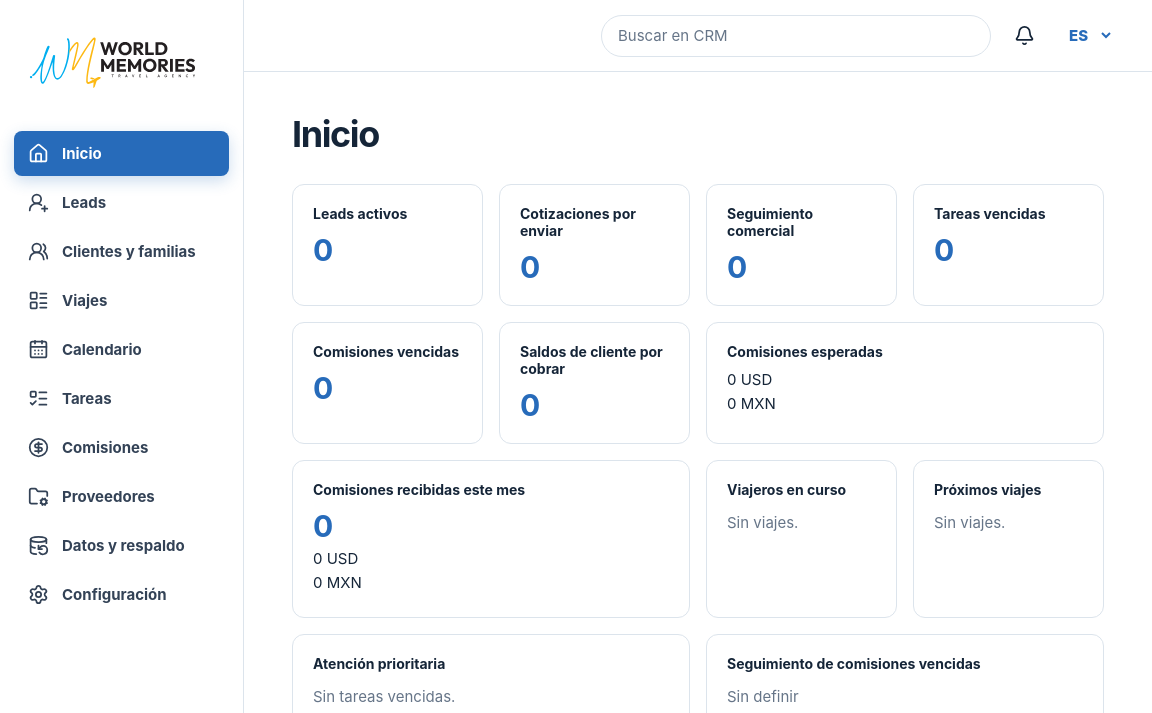
it: application shell › opens a Client in the focused workspace while preserving primary navigation
This screenshot has width=1152, height=713.
Click the button "Clientes y familias" at (122, 252), box [14,229,229,274]
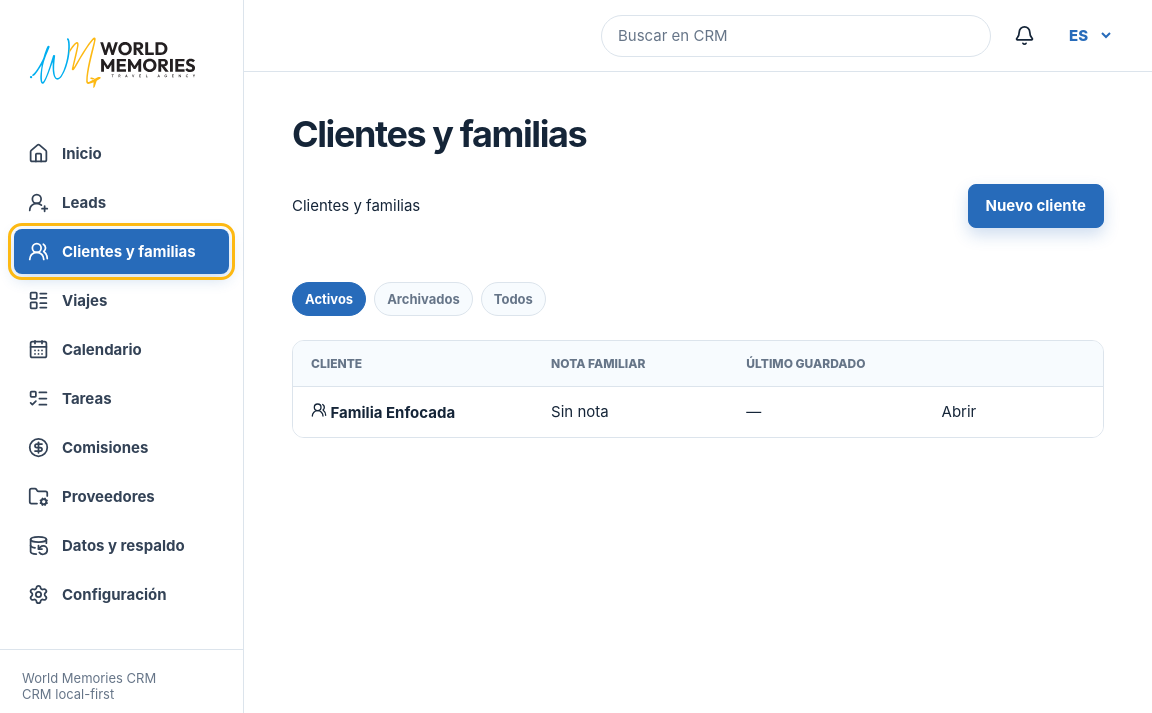
Click the button "Familia Enfocada Sin nota — Abrir" at (393, 412), box [293,386,1103,437]
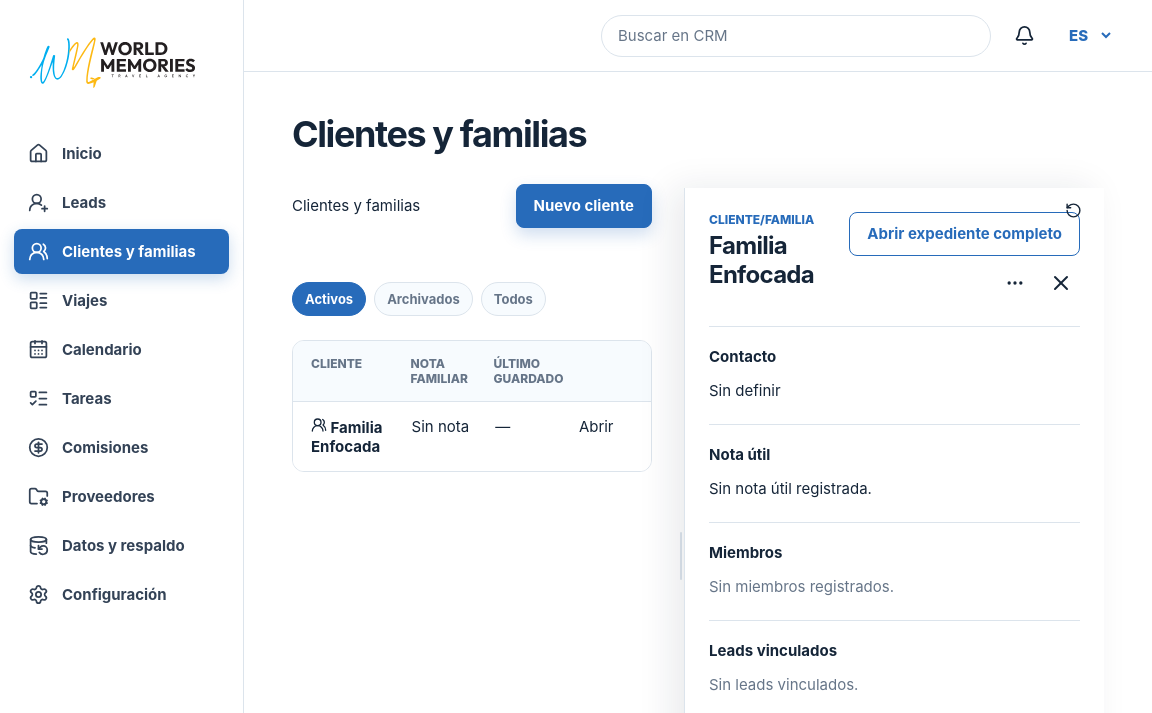
Click the button "Abrir expediente completo" at (965, 234), box [849,212,1080,256]
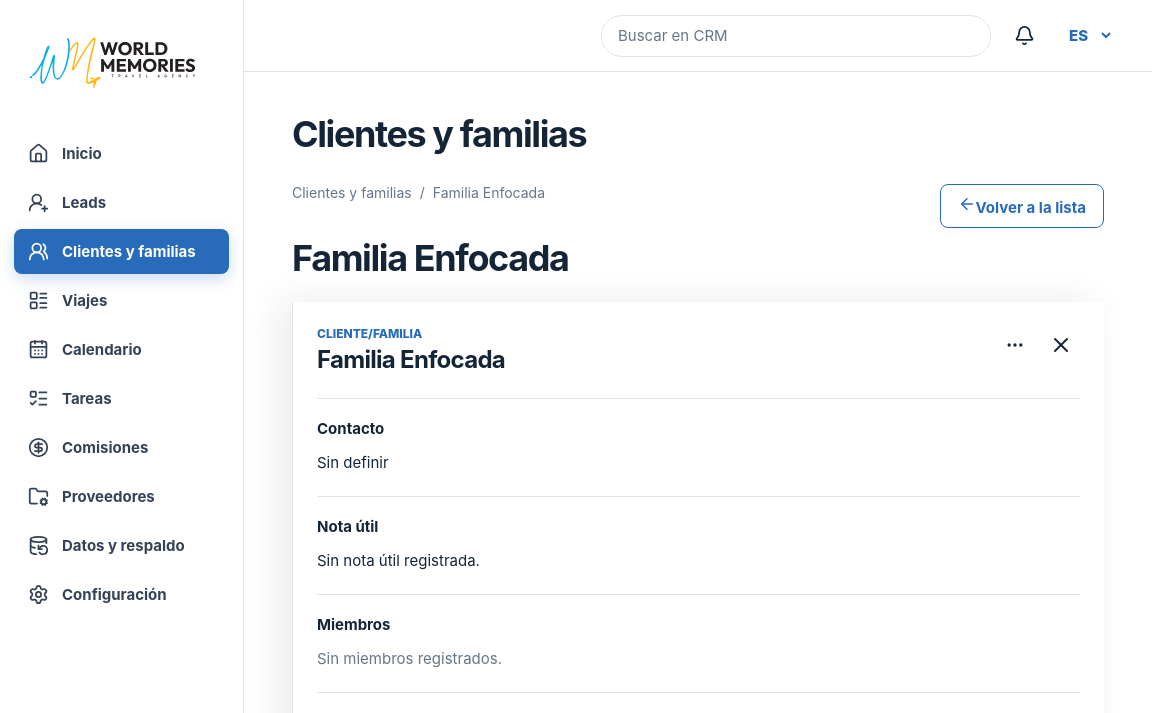
Expected: the navigation bar named "Navegación principal" is shown, [14,131,229,617]
Expected: the navigation bar named "Ruta del expediente" is shown, [292,184,545,201]
Expected: the button "Abrir expediente completo" is gone
